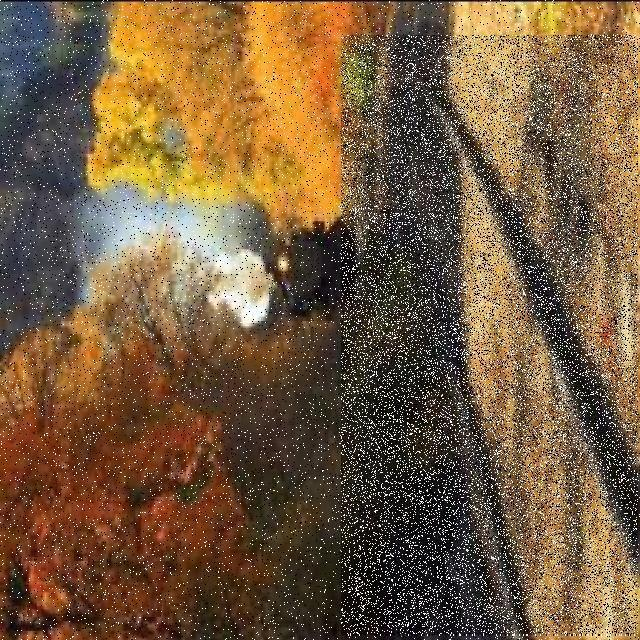rail: (342, 37, 639, 636)
